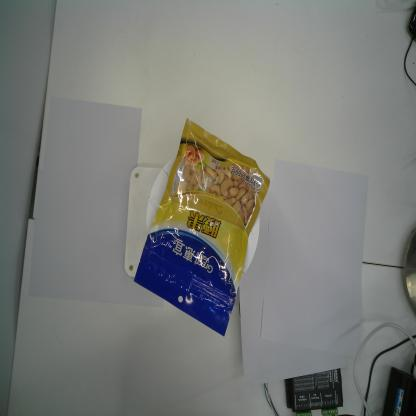Dried Fruit: (132, 117, 270, 337)
